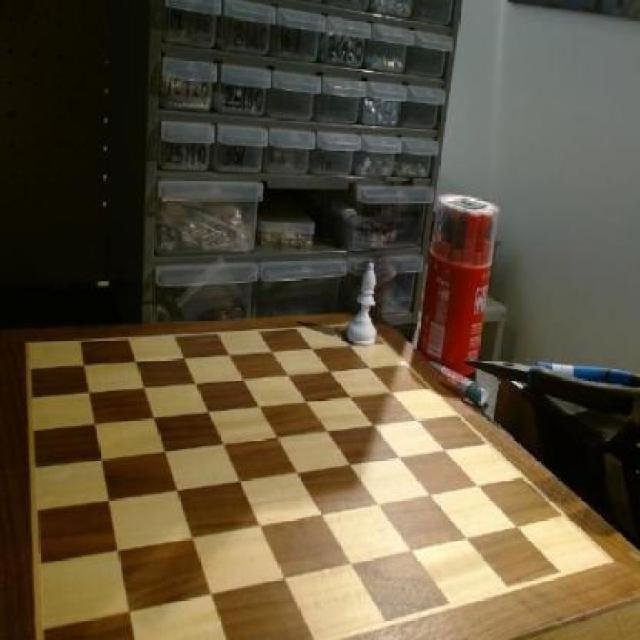black-rook: (346, 252, 380, 346)
